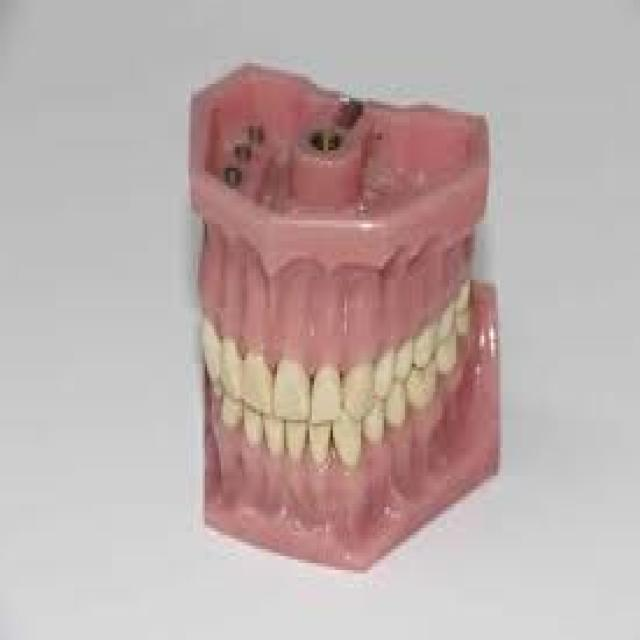tooth: (245, 353, 272, 416), (349, 367, 382, 416), (312, 367, 340, 423), (277, 364, 305, 419), (407, 381, 447, 416), (454, 290, 479, 343), (202, 322, 224, 381), (307, 423, 335, 469), (221, 336, 240, 402), (338, 423, 366, 465), (358, 409, 389, 441), (433, 322, 461, 356), (414, 336, 442, 367), (377, 353, 398, 392), (223, 395, 244, 430), (288, 423, 305, 458), (265, 420, 284, 451), (396, 357, 416, 378), (247, 409, 260, 441), (389, 399, 405, 423), (209, 385, 219, 395)
